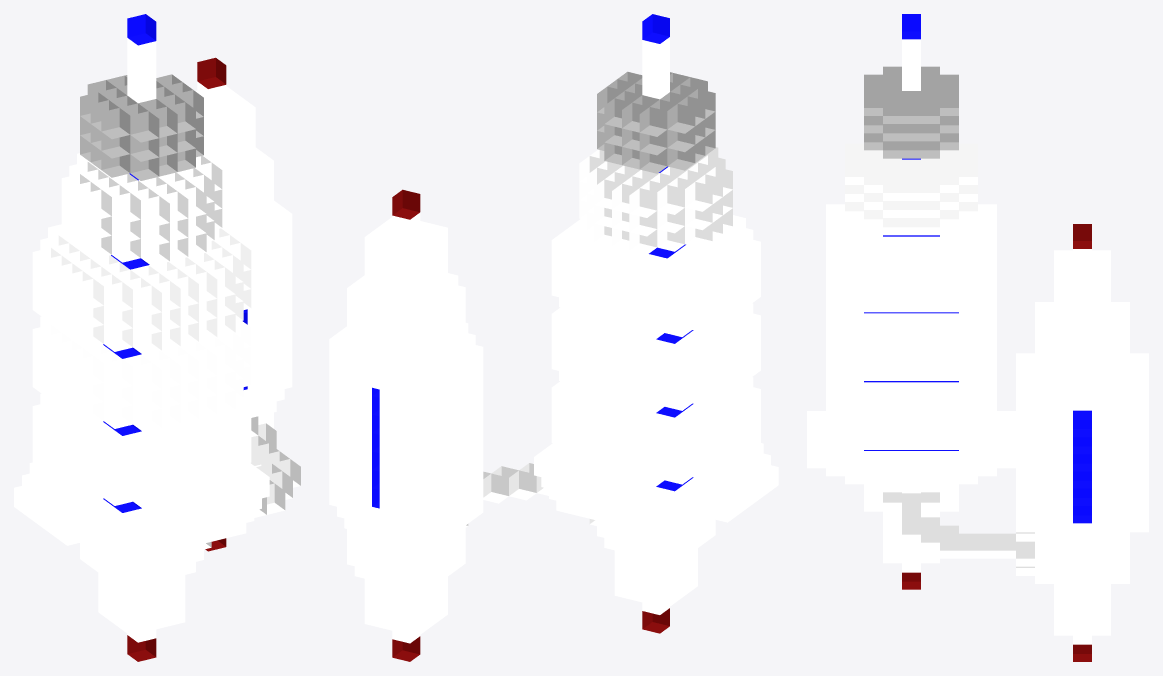
The model's file is sandbox.gltf.
The picture shows the model from 3 angles, left to right: view 1: azimuth 30°, elevation 25°; view 2: azimuth 150°, elevation 25°; view 3: azimuth 270°, elevation 25°; orthographic projection. The views are drawn at different scales.
Parts seen in each view (by area): view 1: voxel_457, voxel_40, voxel_86, voxel_305, voxel_614, voxel_125, voxel_64, voxel_809, voxel_299, voxel_332, voxel_519, voxel_360 (+89 smaller); view 2: voxel_442, voxel_609, voxel_905, voxel_948, voxel_506, voxel_691, voxel_412, voxel_474, voxel_588, voxel_809, voxel_865, voxel_554 (+16 smaller); view 3: no part large enough to name.
Part boxes in pixels (x1,y1,x2,y2): voxel_457: (114, 521, 143, 552); voxel_40: (82, 189, 111, 220); voxel_86: (127, 14, 156, 45); voxel_305: (85, 517, 114, 548); voxel_614: (143, 524, 172, 555); voxel_125: (56, 514, 85, 545); voxel_64: (101, 108, 130, 139); voxel_809: (197, 57, 226, 88); voxel_299: (130, 111, 159, 142); voxel_332: (104, 436, 132, 467); voxel_519: (133, 362, 161, 393); voxel_360: (104, 359, 132, 390); voxel_442: (692, 267, 720, 296); voxel_609: (664, 417, 692, 447); voxel_905: (389, 301, 417, 330); voxel_948: (379, 364, 407, 393); voxel_506: (692, 414, 720, 444); voxel_691: (626, 502, 654, 531); voxel_412: (639, 107, 667, 136); voxel_474: (692, 341, 720, 370); voxel_588: (664, 344, 692, 373); voxel_809: (392, 189, 420, 219); voxel_865: (417, 298, 445, 327); voxel_554: (629, 188, 657, 217).
Size of the model in its own units: 5.62 by 10.31 by 5.62.
